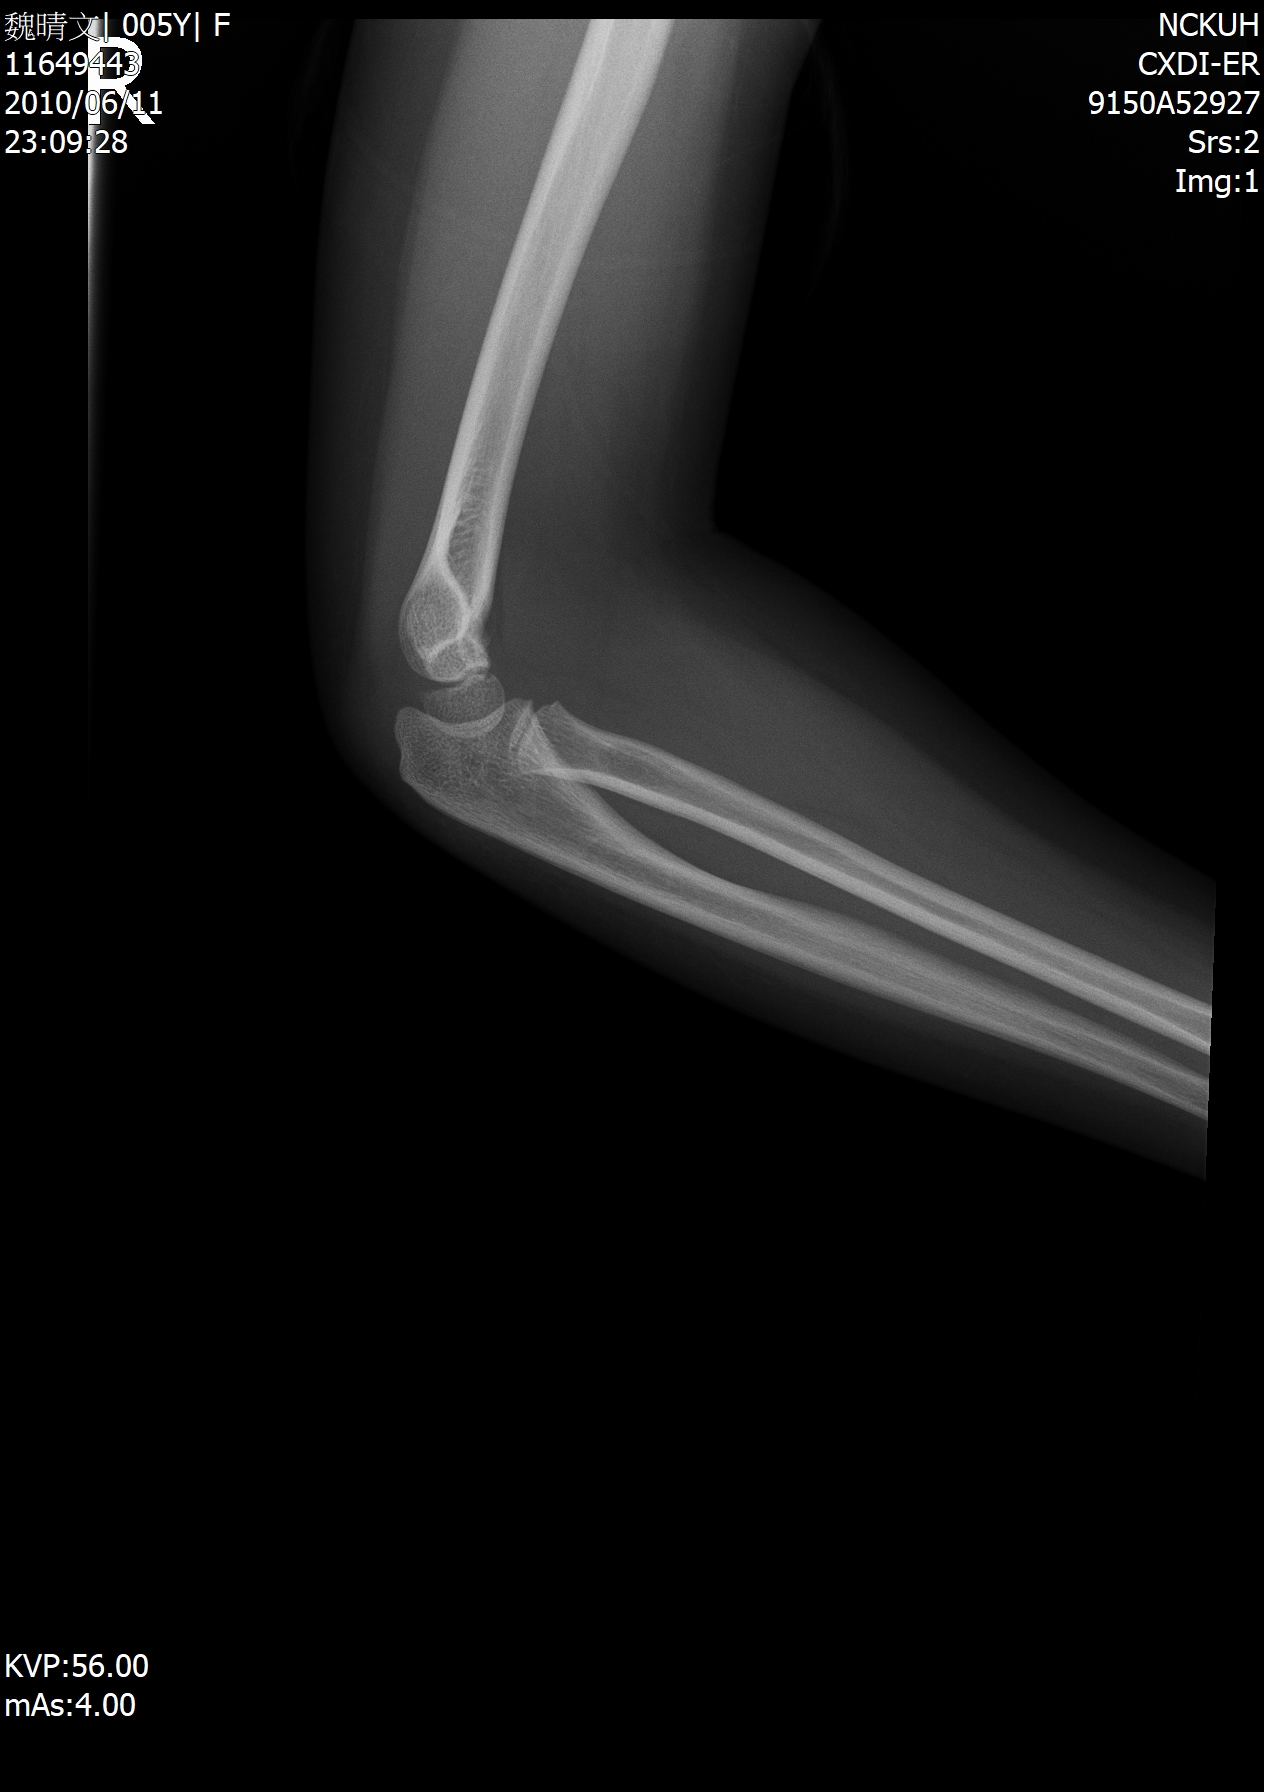Normal: (252, 473, 714, 978)
